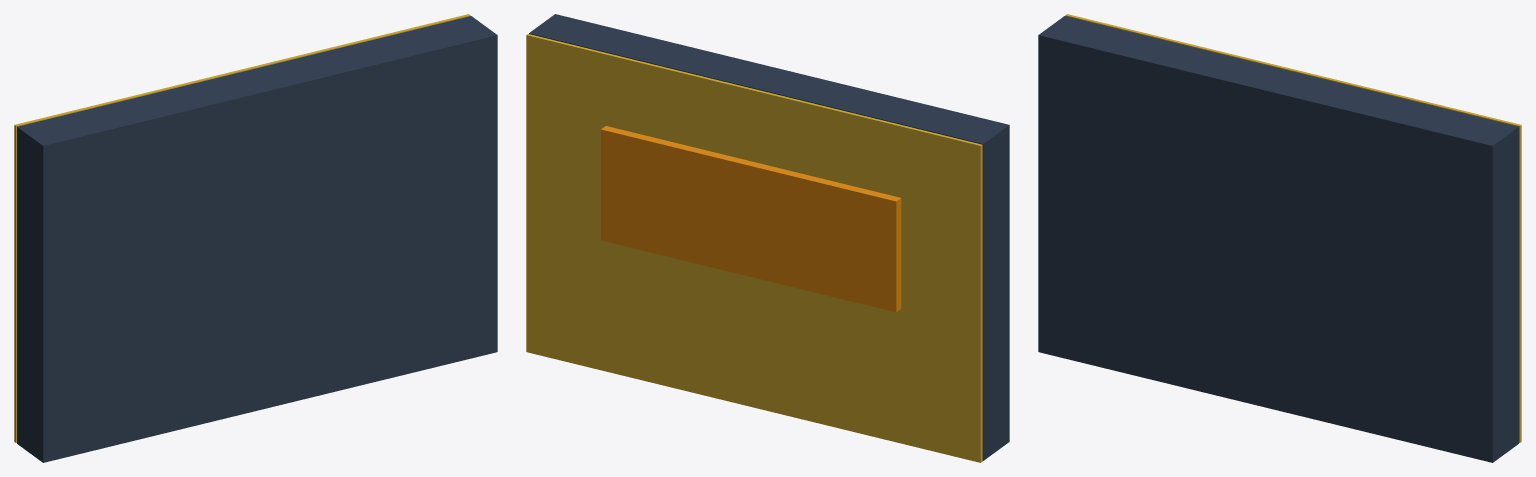
Rendered from Led neon nhiều màu 90 x 60.obj.
3 views of the same model, side by side, from view 1: azimuth 30°, elevation 25°; view 2: azimuth 150°, elevation 25°; view 3: azimuth 330°, elevation 25° (orthographic).
Visible parts, largest first — view 1: Khung_Ket_Cau, Vien_Kim_Loai_Nẹp; view 2: Vien_Kim_Loai_Nẹp, Chu_Noi_3D_Logo, Khung_Ket_Cau; view 3: Khung_Ket_Cau, Vien_Kim_Loai_Nẹp.
Boxes of the visible parts, x1,y1,x2,y2 form: Khung_Ket_Cau: (17,16,497,462); Vien_Kim_Loai_Nẹp: (14,14,470,442); Vien_Kim_Loai_Nẹp: (526,34,982,462); Chu_Noi_3D_Logo: (601,126,901,312); Khung_Ket_Cau: (529,14,1009,460); Khung_Ket_Cau: (1038,16,1518,462); Vien_Kim_Loai_Nẹp: (1065,14,1521,442).
Size of the model in its own units: 0.9 by 0.6 by 0.116.
